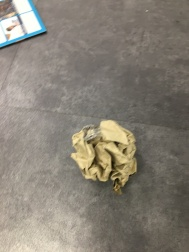paper_brown: (56, 111, 165, 199)
